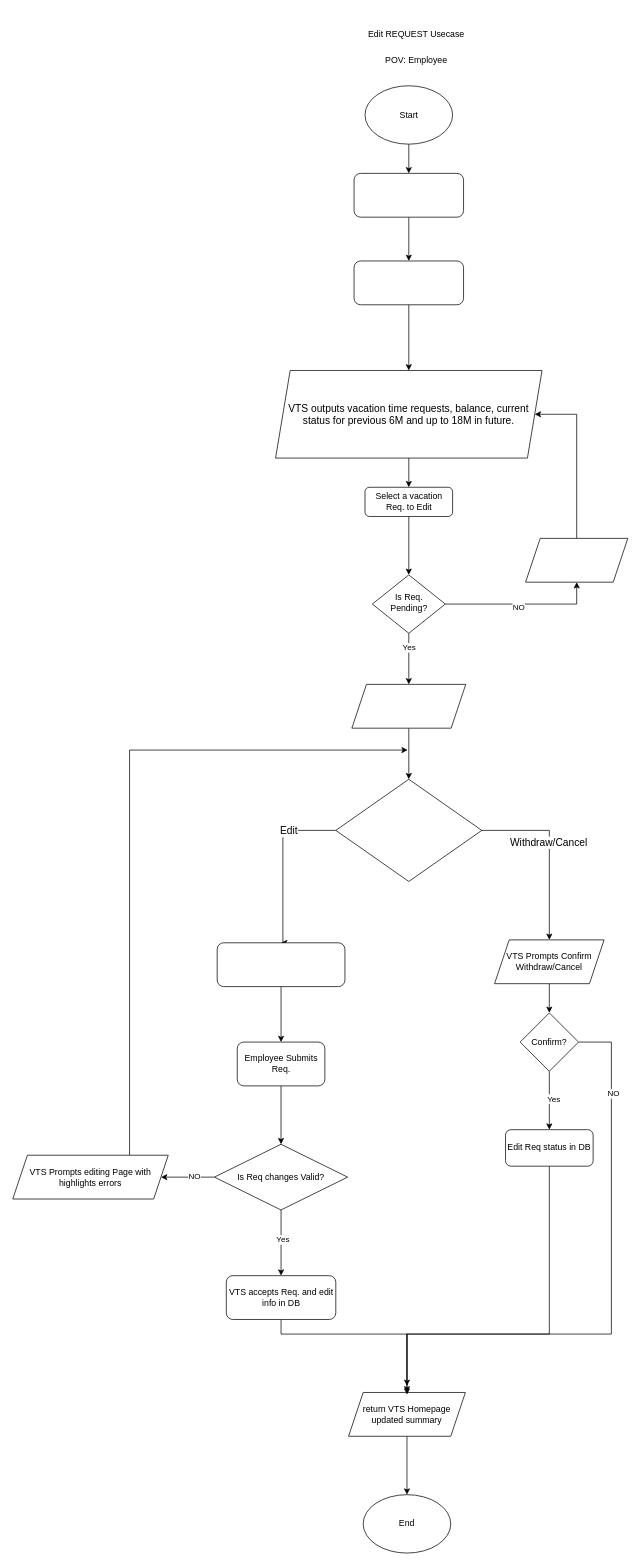
This 641x1566 diagram has some shape labels left out. The centre of each missing label's shape, as x and y in pixels:
Employee Authenticates to portal application: the point at 408,195
Employee Edit/ Delete/ Withdraw Req.: the point at 408,830
Employee Modifies Req. title, comments, or dates: the point at 280,964
Employee Navigates to VTS Homepage: the point at 408,282
VTS displays Error message: the point at 576,560
VTS prompts Editable View: the point at 408,706
